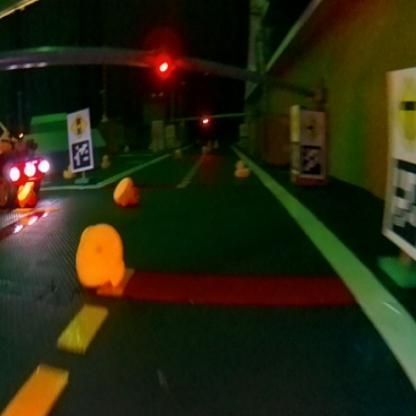duckie: (66, 210, 134, 297), (102, 166, 144, 212), (229, 152, 252, 182)
duckiebot: (0, 150, 48, 212)
